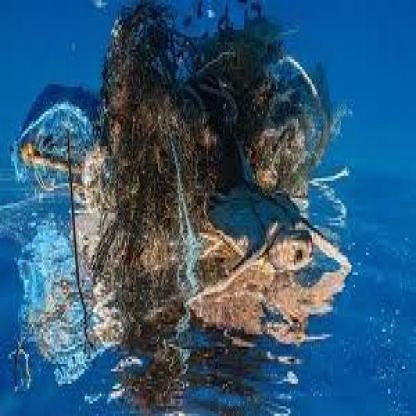net: (87, 37, 215, 357)
